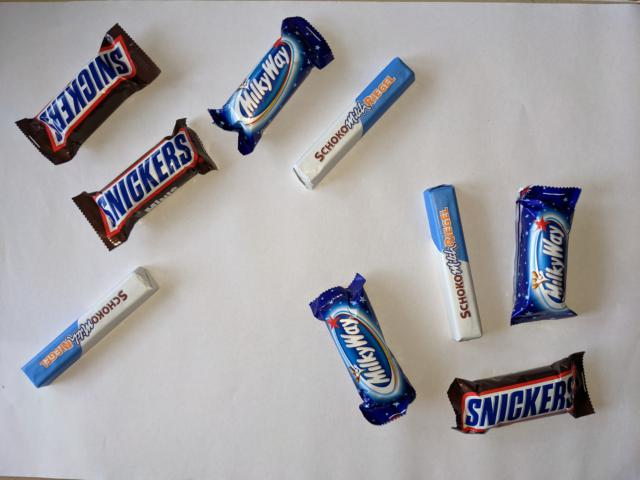MilkyWay: (204, 12, 337, 160), (305, 271, 419, 428), (505, 183, 587, 330)
Schokoriegel: (18, 262, 163, 392), (286, 54, 419, 195), (419, 182, 489, 347)
Snickers: (12, 21, 165, 168), (69, 115, 220, 255), (444, 349, 598, 439)
